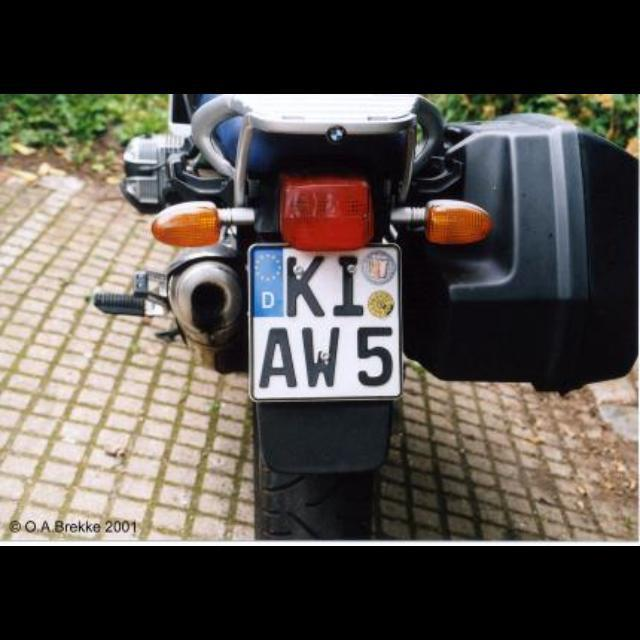license-plates: (248, 245, 401, 402)
